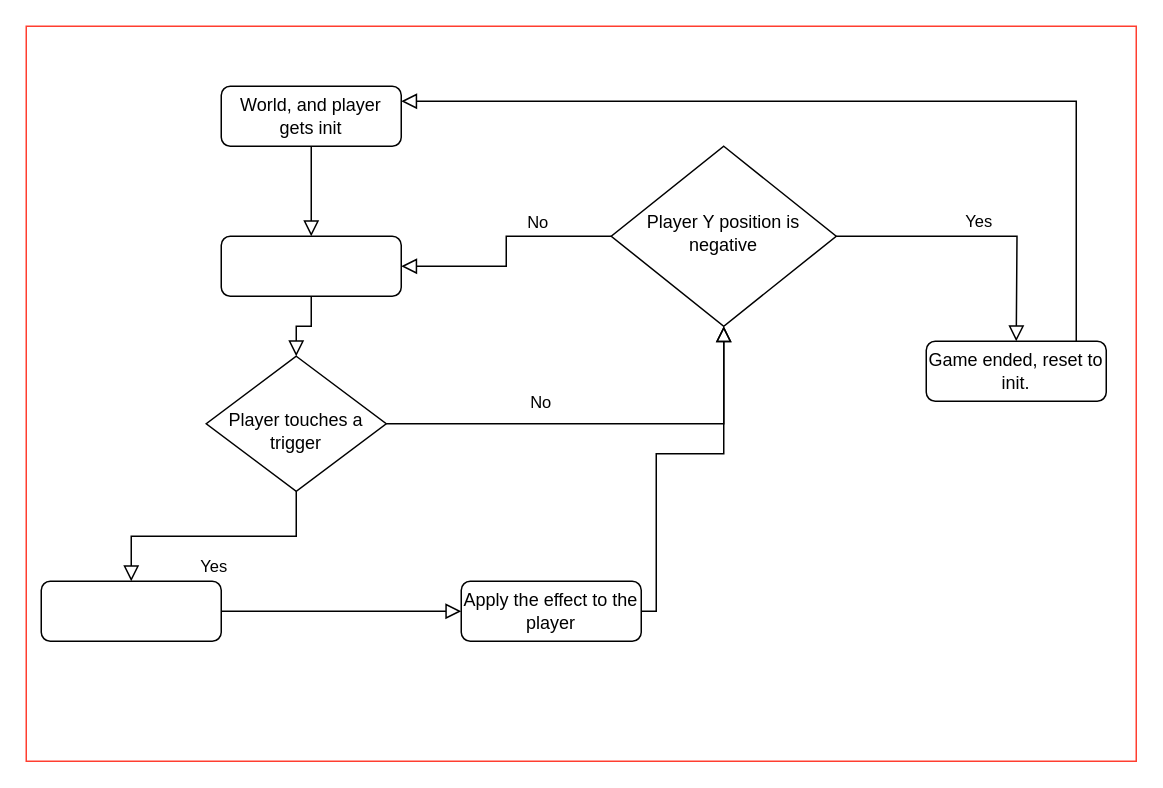
Some shapes in this 1163 by 788 pixel diagram are drawn without their labels. Here are the shapes that lost their labels. From the top down, the centre of each, then its label:
At (x=310, y=265): "Chunks move towards the camera".
At (x=130, y=610): "Solve which kind of trigger it is (rope, turn, obstacle)".
